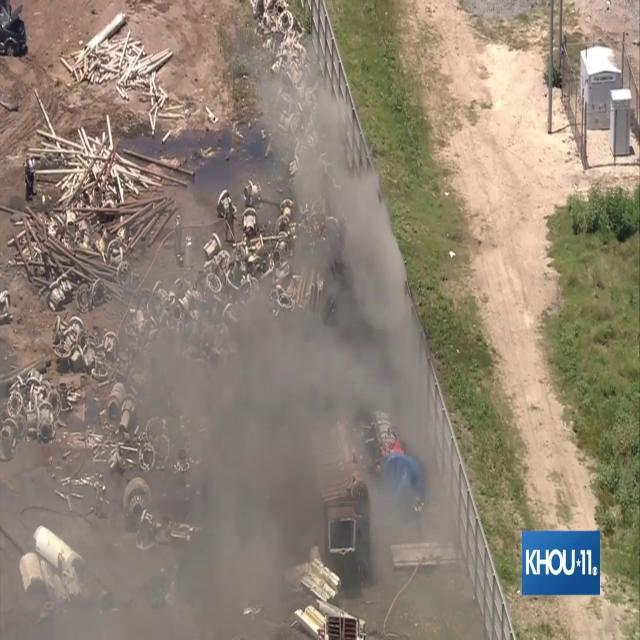Smoke: (110, 22, 448, 624)
